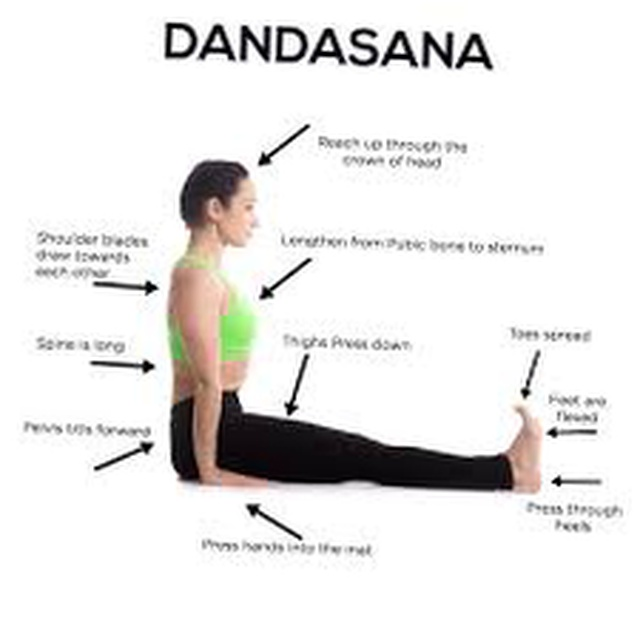Staff_Pose: (167, 158, 544, 494)
